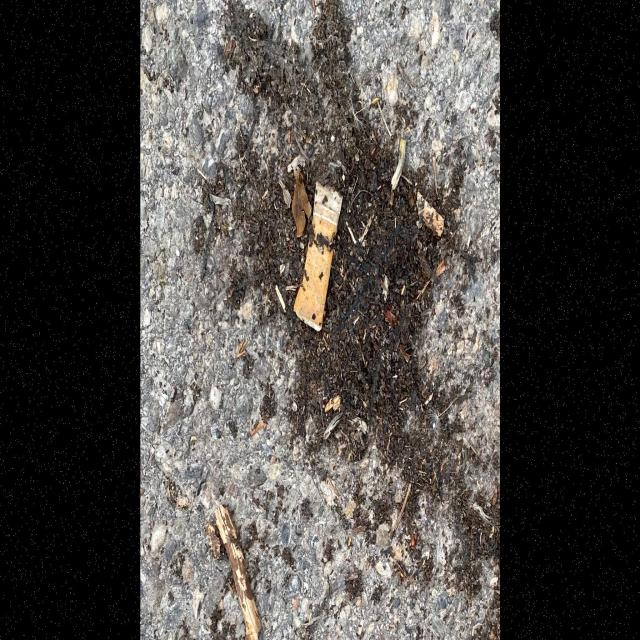other waste: (292, 178, 344, 332)
